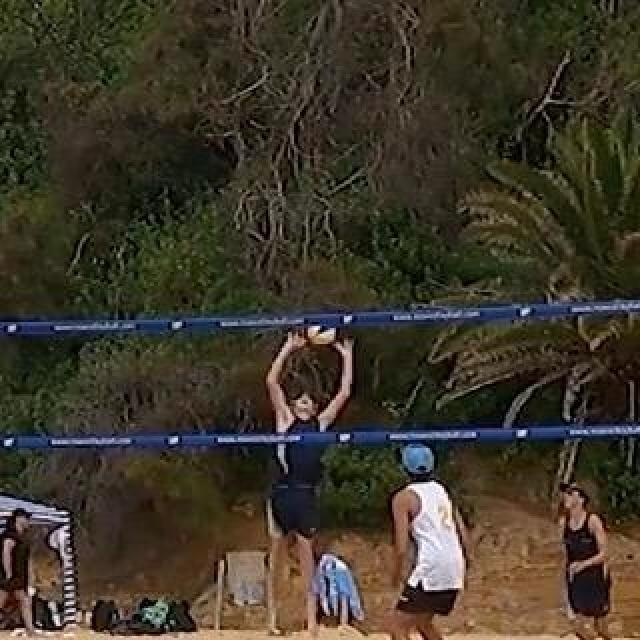volleyball: (306, 312, 338, 344)
